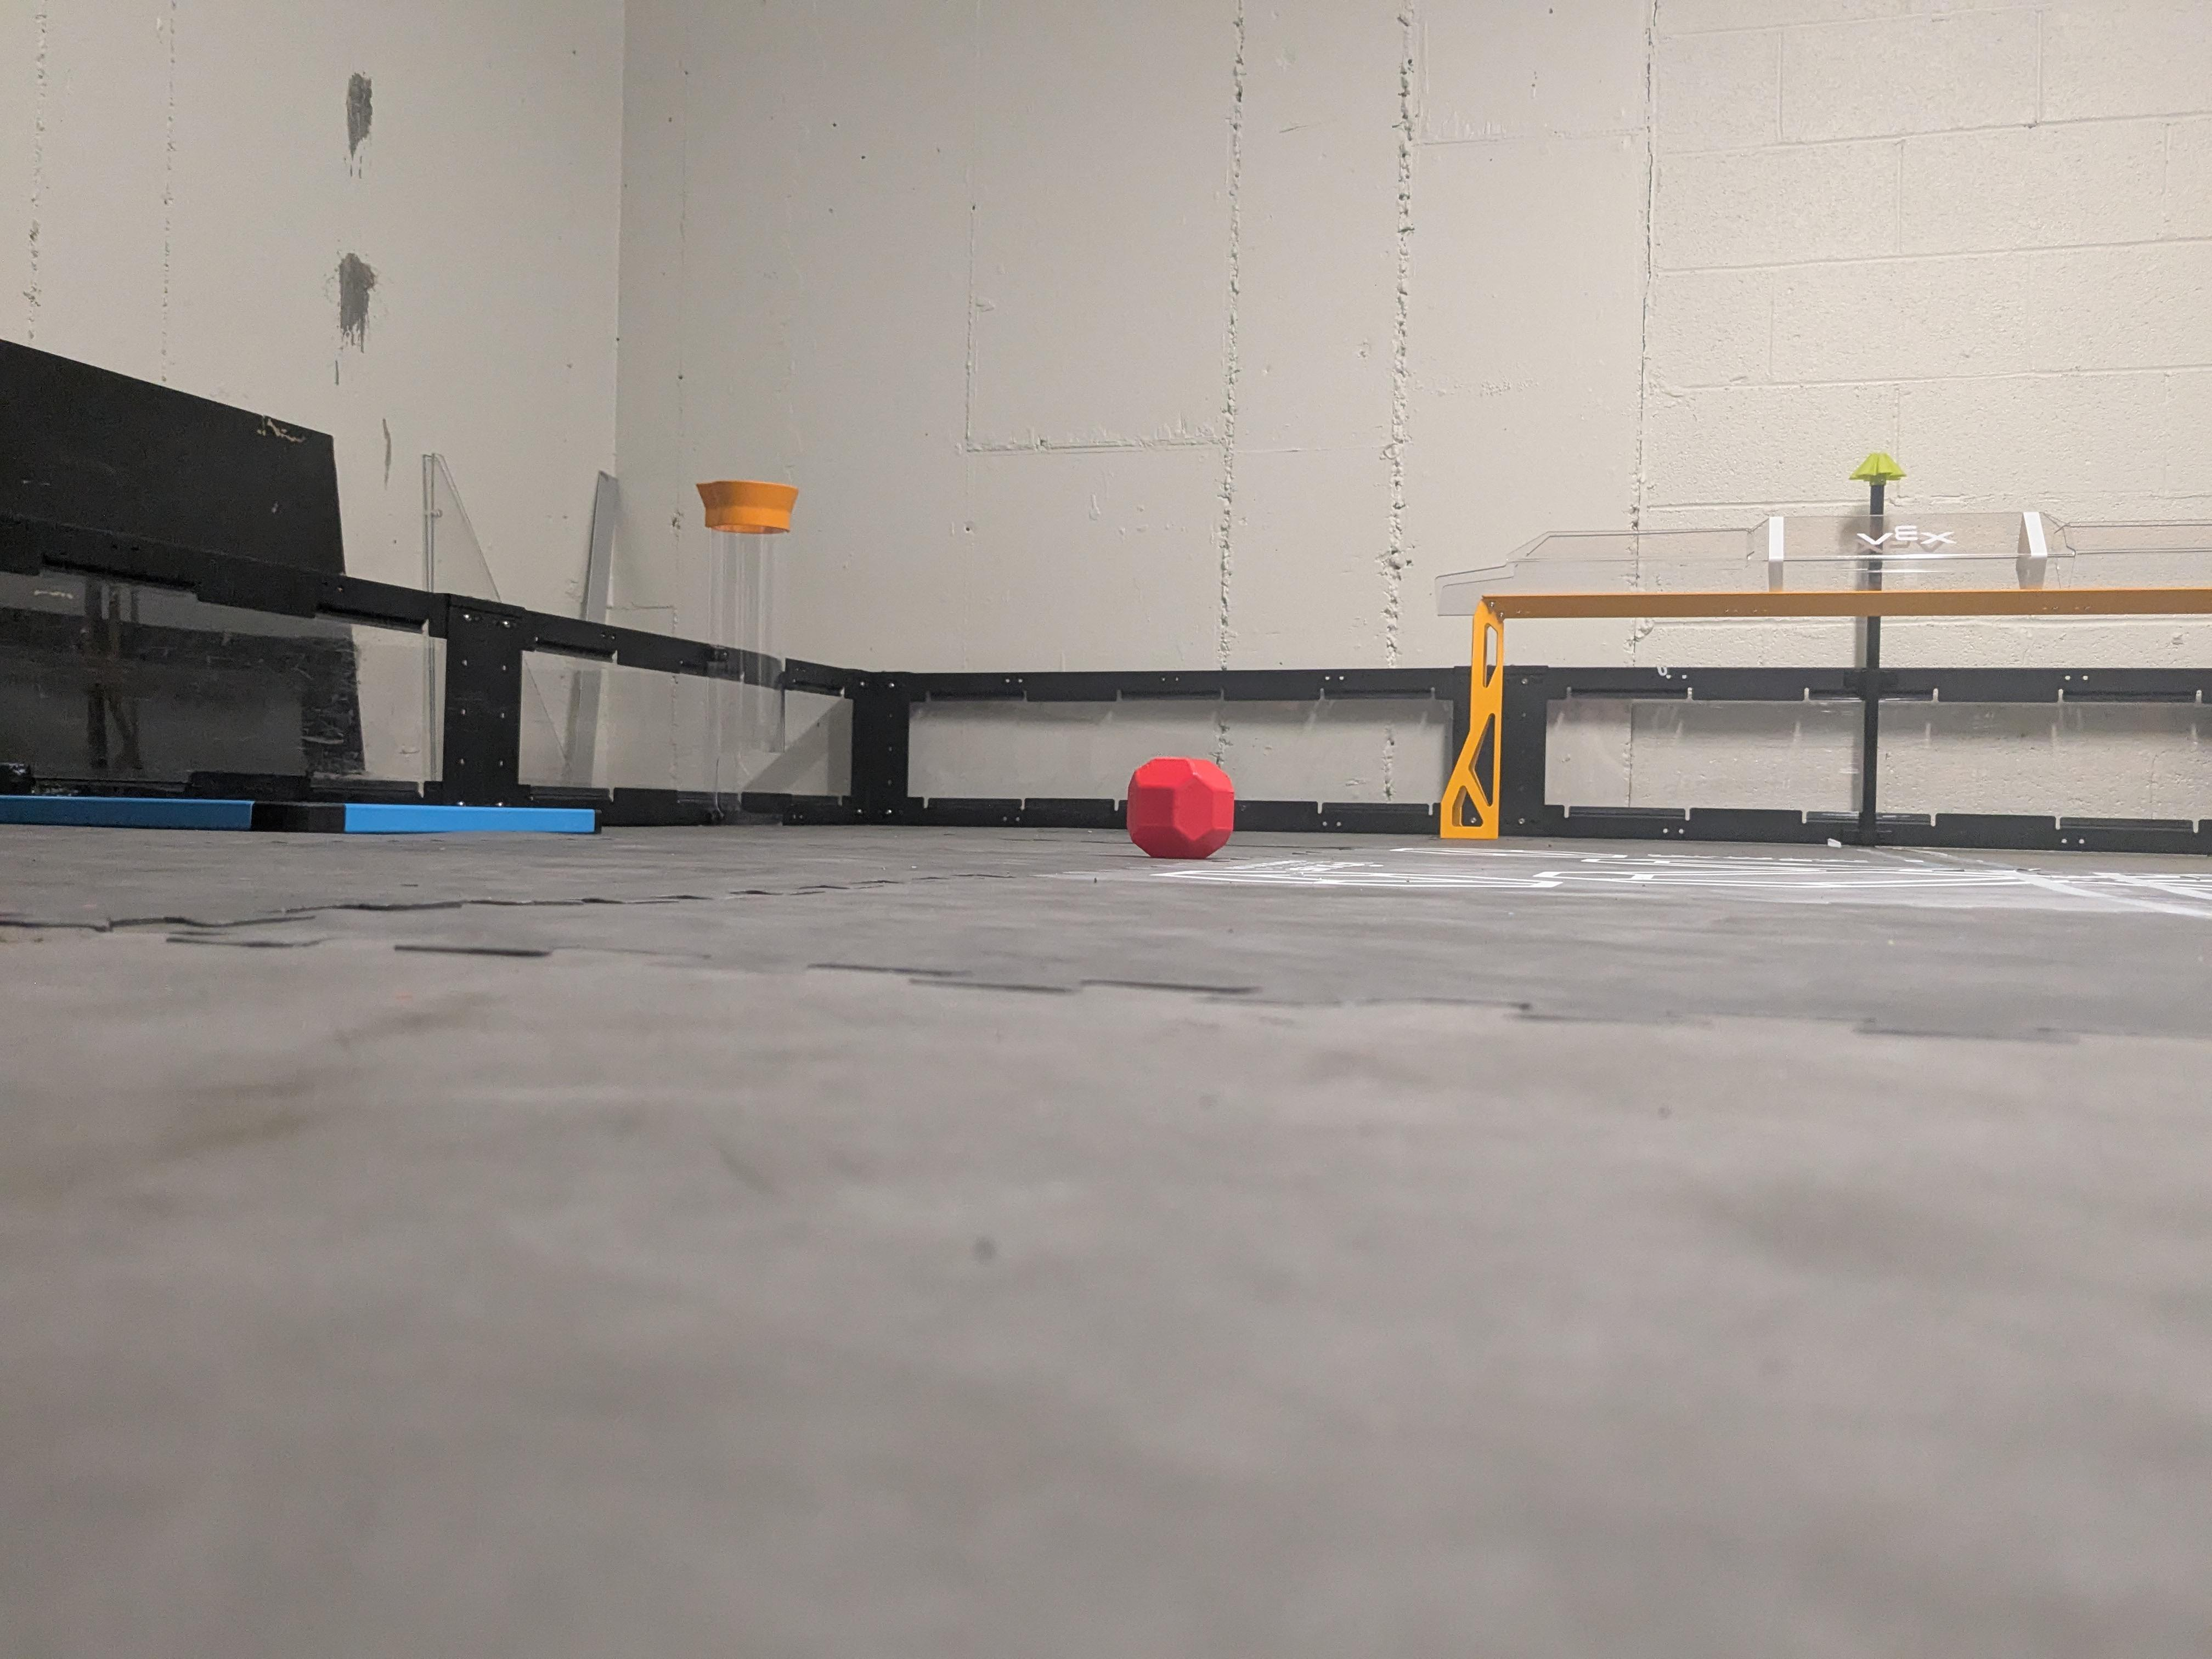Vex-Pieces-RED: (1127, 756, 1235, 857)
